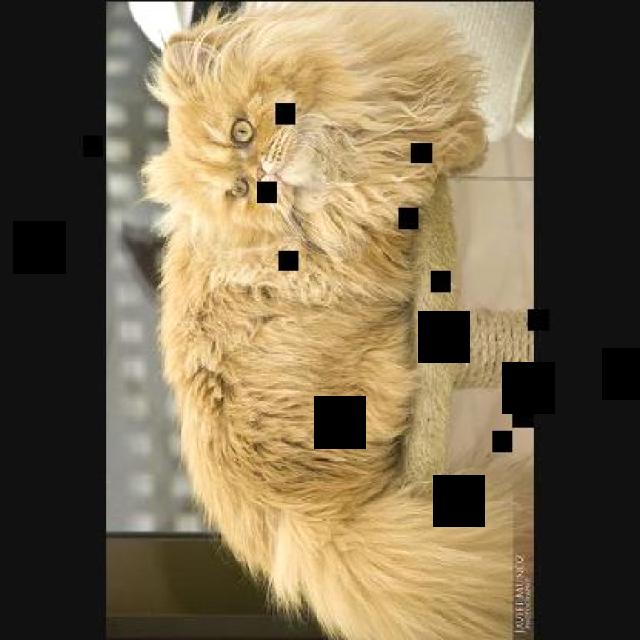unauthorized: (135, 0, 532, 638)
